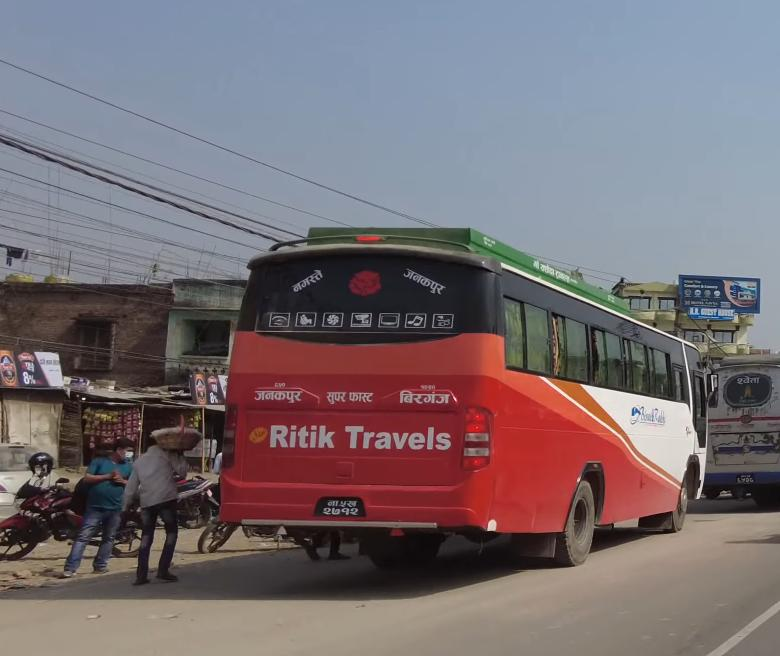bus: (210, 203, 720, 548), (707, 342, 780, 511)
